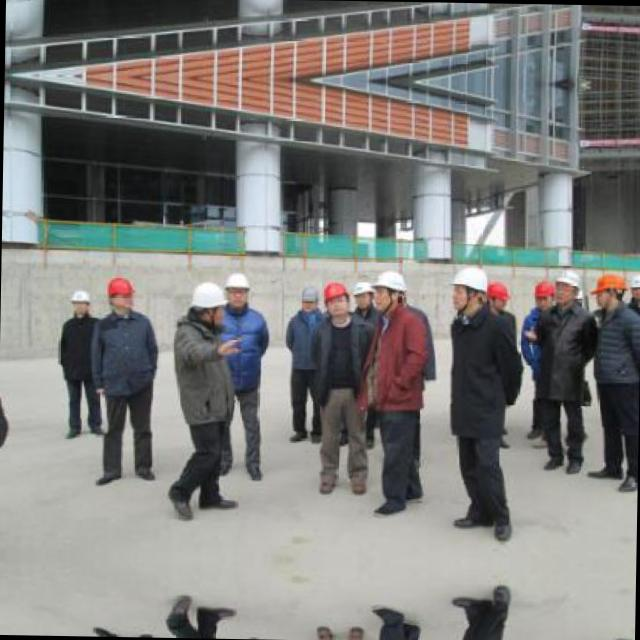helmet: (446, 261, 490, 313), (187, 280, 228, 332), (371, 268, 412, 316), (588, 268, 628, 314), (104, 271, 137, 316), (220, 269, 252, 310), (552, 266, 582, 308), (321, 280, 351, 318), (485, 279, 510, 312), (68, 286, 92, 318), (296, 284, 320, 316), (530, 276, 552, 310), (350, 278, 374, 308), (627, 273, 639, 307)
